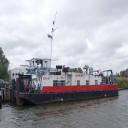tugboat: (11, 58, 121, 109)
